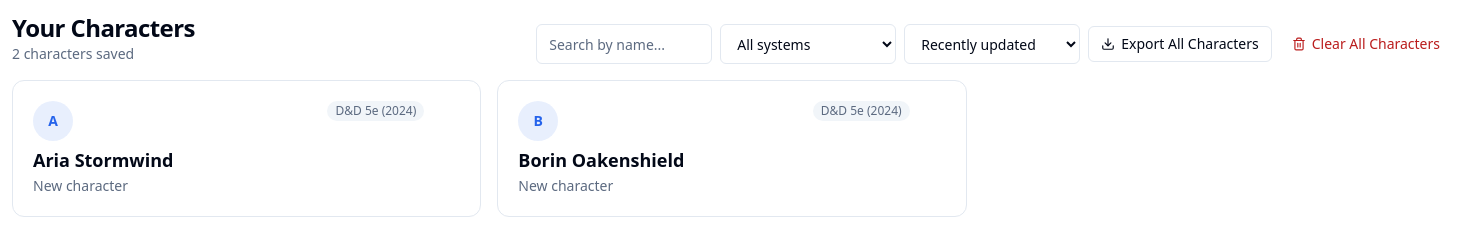
Scenario: CharacterListView › narrows the visible cards by case-insensitive name search
The image size is (1464, 234).
expect the heading "Aria Stormwind" is shown: met, box x1=33 y1=148 x2=174 y2=172
expect the heading "Borin Oakenshield" is shown: met, box x1=518 y1=148 x2=684 y2=172
Type "ARIA" into the search field titled "Search characters" at (624, 44), box x1=536 y1=24 x2=712 y2=64
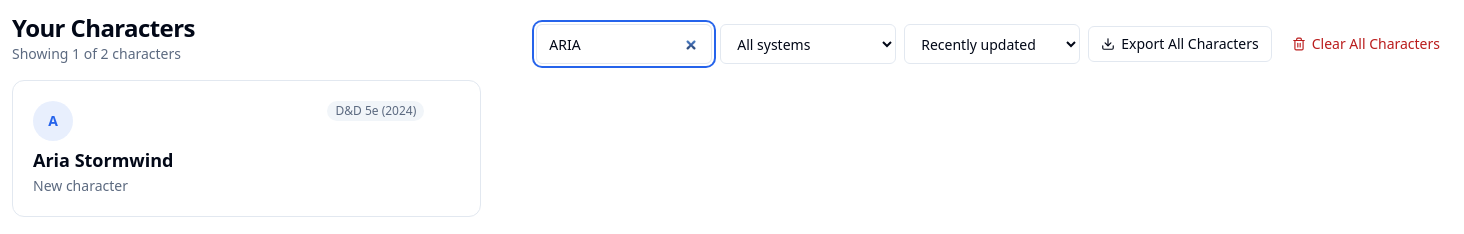
expect the heading "Aria Stormwind" is shown: met, box x1=33 y1=148 x2=174 y2=172
expect the button "Borin Oakenshield" is gone: met
expect the text "Showing 1 of 2 characters" is shown: met, box x1=12 y1=44 x2=195 y2=64
